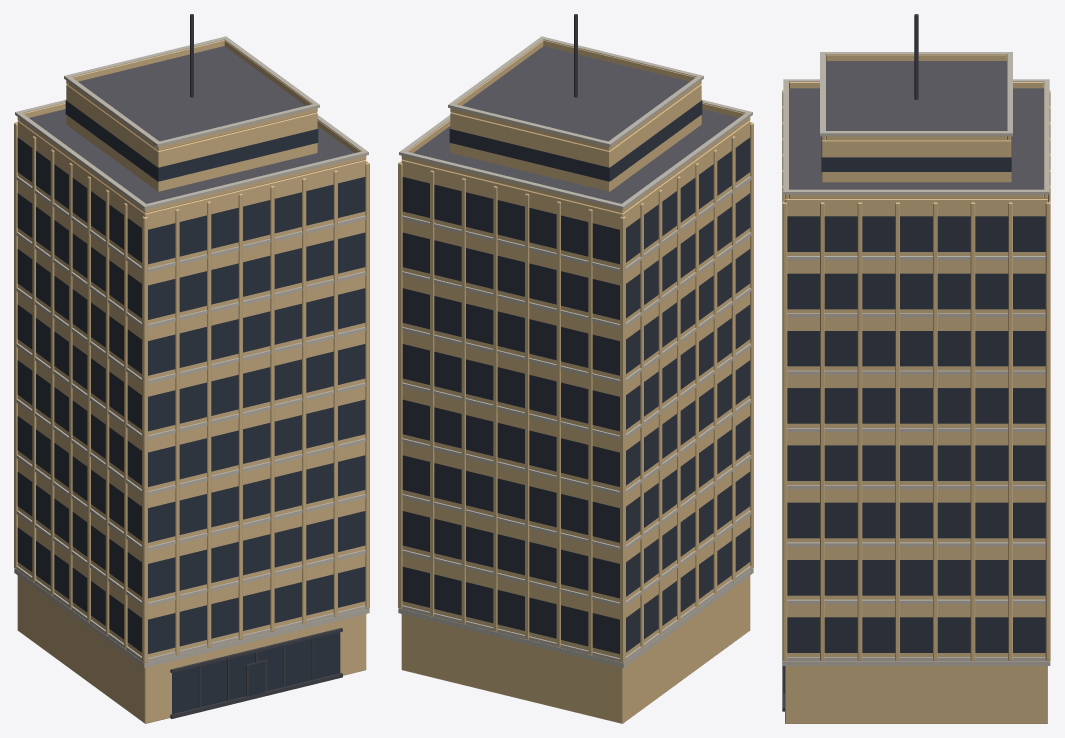
The model's file is OfficeTall.fbx.
The picture shows the model from 3 angles, left to right: view 1: azimuth 30°, elevation 25°; view 2: azimuth 150°, elevation 25°; view 3: azimuth 270°, elevation 25°; orthographic projection. The views are drawn at different scales.
Visible parts, largest first — view 1: OfficeTall_Body, OfficeTall_Windows, OfficeTall_Trim, OfficeTall_Roof, OfficeTall_Frame; view 2: OfficeTall_Body, OfficeTall_Windows, OfficeTall_Trim, OfficeTall_Roof; view 3: OfficeTall_Body, OfficeTall_Windows, OfficeTall_Roof, OfficeTall_Trim, OfficeTall_Frame.
Part boxes in pixels (x1=…): OfficeTall_Body: x1=14, y1=40, x2=369, y2=723; OfficeTall_Windows: x1=17, y1=100, x2=365, y2=714; OfficeTall_Trim: x1=14, y1=36, x2=369, y2=667; OfficeTall_Roof: x1=29, y1=46, x2=354, y2=203; OfficeTall_Frame: x1=170, y1=14, x2=342, y2=718; OfficeTall_Body: x1=398, y1=40, x2=753, y2=723; OfficeTall_Windows: x1=402, y1=100, x2=750, y2=653; OfficeTall_Trim: x1=398, y1=36, x2=753, y2=667; OfficeTall_Roof: x1=413, y1=46, x2=738, y2=203; OfficeTall_Body: x1=782, y1=54, x2=1050, y2=723; OfficeTall_Windows: x1=784, y1=136, x2=1048, y2=652; OfficeTall_Roof: x1=789, y1=61, x2=1043, y2=189; OfficeTall_Trim: x1=782, y1=52, x2=1050, y2=665; OfficeTall_Frame: x1=782, y1=14, x2=918, y2=711.
Bounding box in the file's own units: 51 × 137 × 51.
